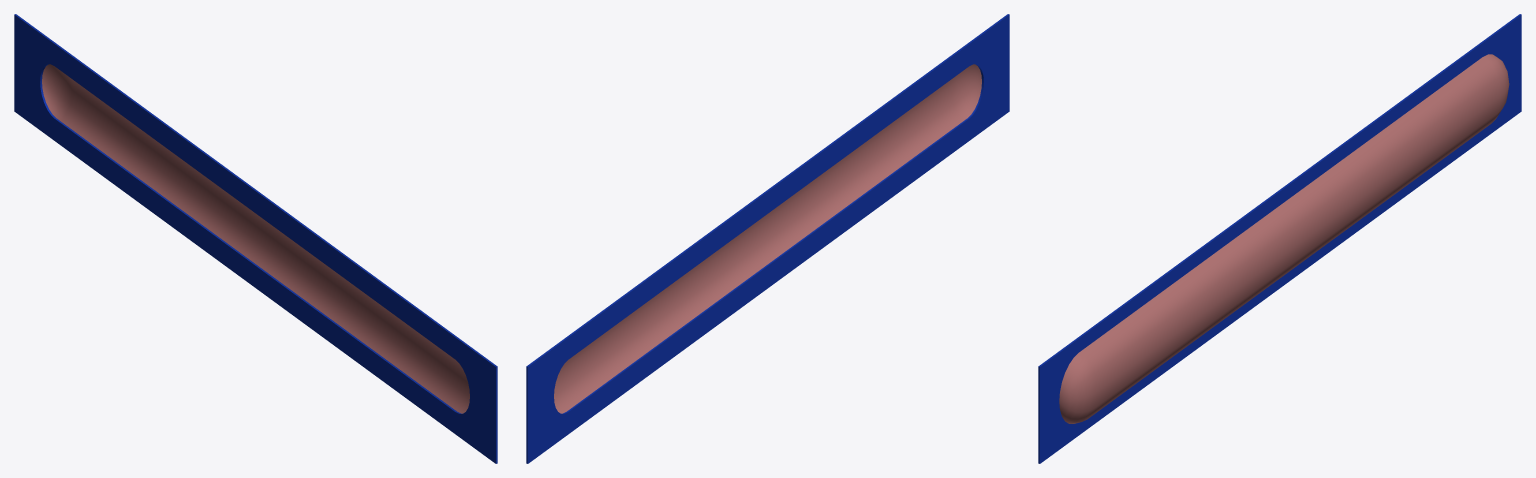
File: 5X45 Concave Window.FBX
3 views of the same model, side by side, from view 1: azimuth 30°, elevation 25°; view 2: azimuth 150°, elevation 25°; view 3: azimuth 330°, elevation 25° (orthographic).
Visible parts, largest first — view 1: Box002; view 2: Box002; view 3: Box002.
Boxes of the visible parts, x1,y1,x2,y2 form: Box002: (14,14,497,463); Box002: (526,14,1009,463); Box002: (1038,14,1521,463).
Size of the model in its own units: 1.08 by 5 by 45.
